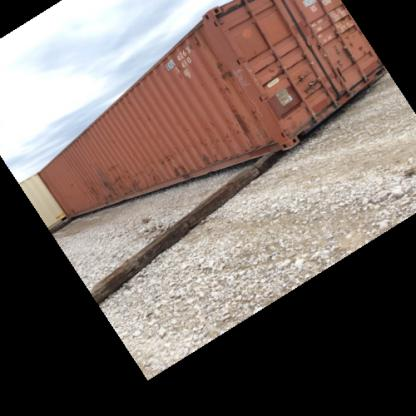Damage: (84, 165, 128, 203), (226, 100, 262, 136), (209, 61, 246, 91), (194, 146, 218, 168), (166, 158, 192, 175), (324, 80, 348, 96), (124, 175, 144, 188)
